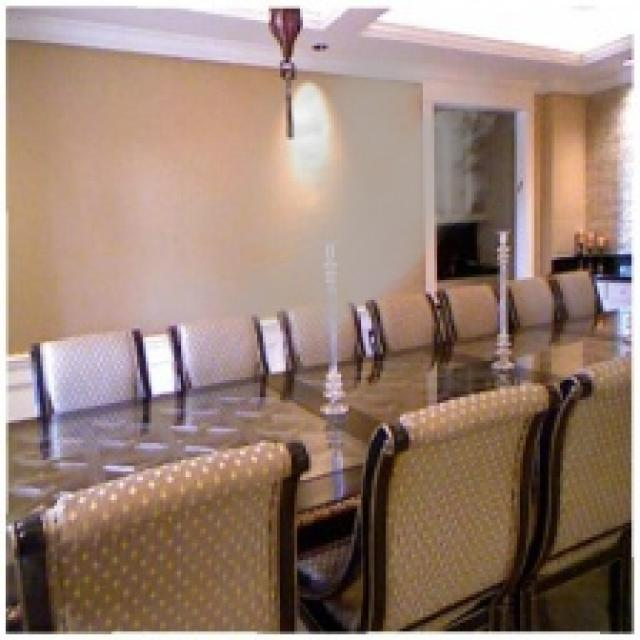smoke: (134, 8, 512, 383)
